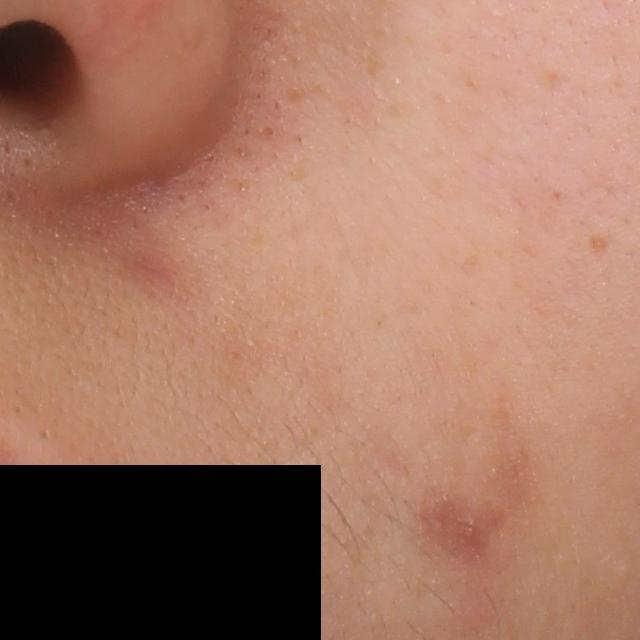melasma: (586, 233, 614, 259)
